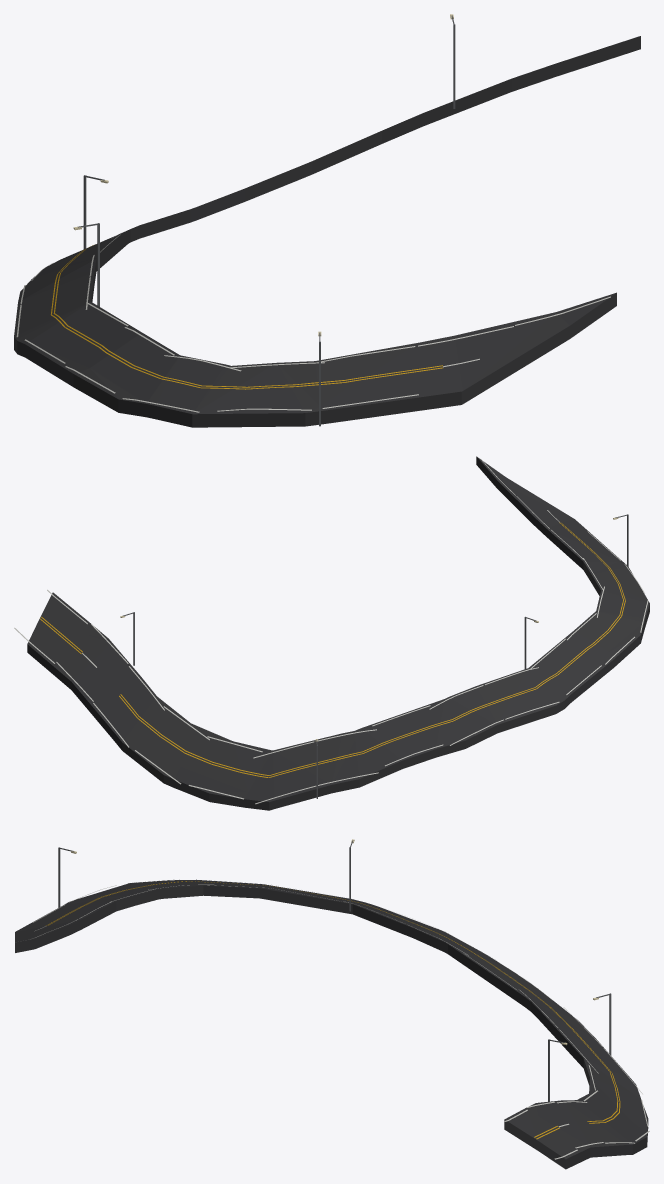
The model's file is 17-109432-59494.dca2be5c.glb.
The picture shows the model from 3 angles, top to bottom: view 1: azimuth 30°, elevation 25°; view 2: azimuth 150°, elevation 25°; view 3: azimuth 270°, elevation 25°; orthographic projection. The views are drawn at different scales.
Bounding box in the file's own units: 70.51 × 21.6 × 67.73.
